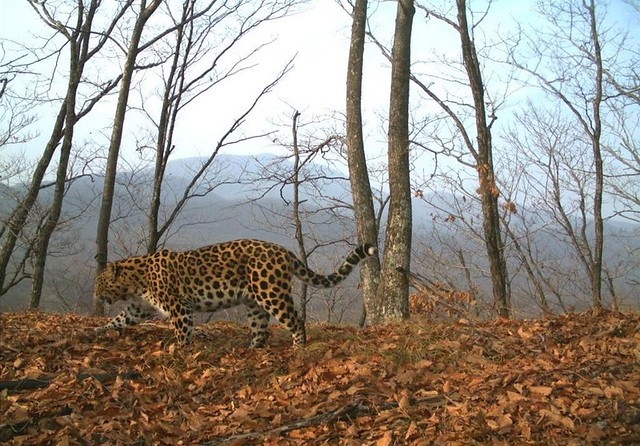amur_leopard: (76, 238, 377, 358)
